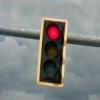traffic lights: (42, 19, 67, 87)
